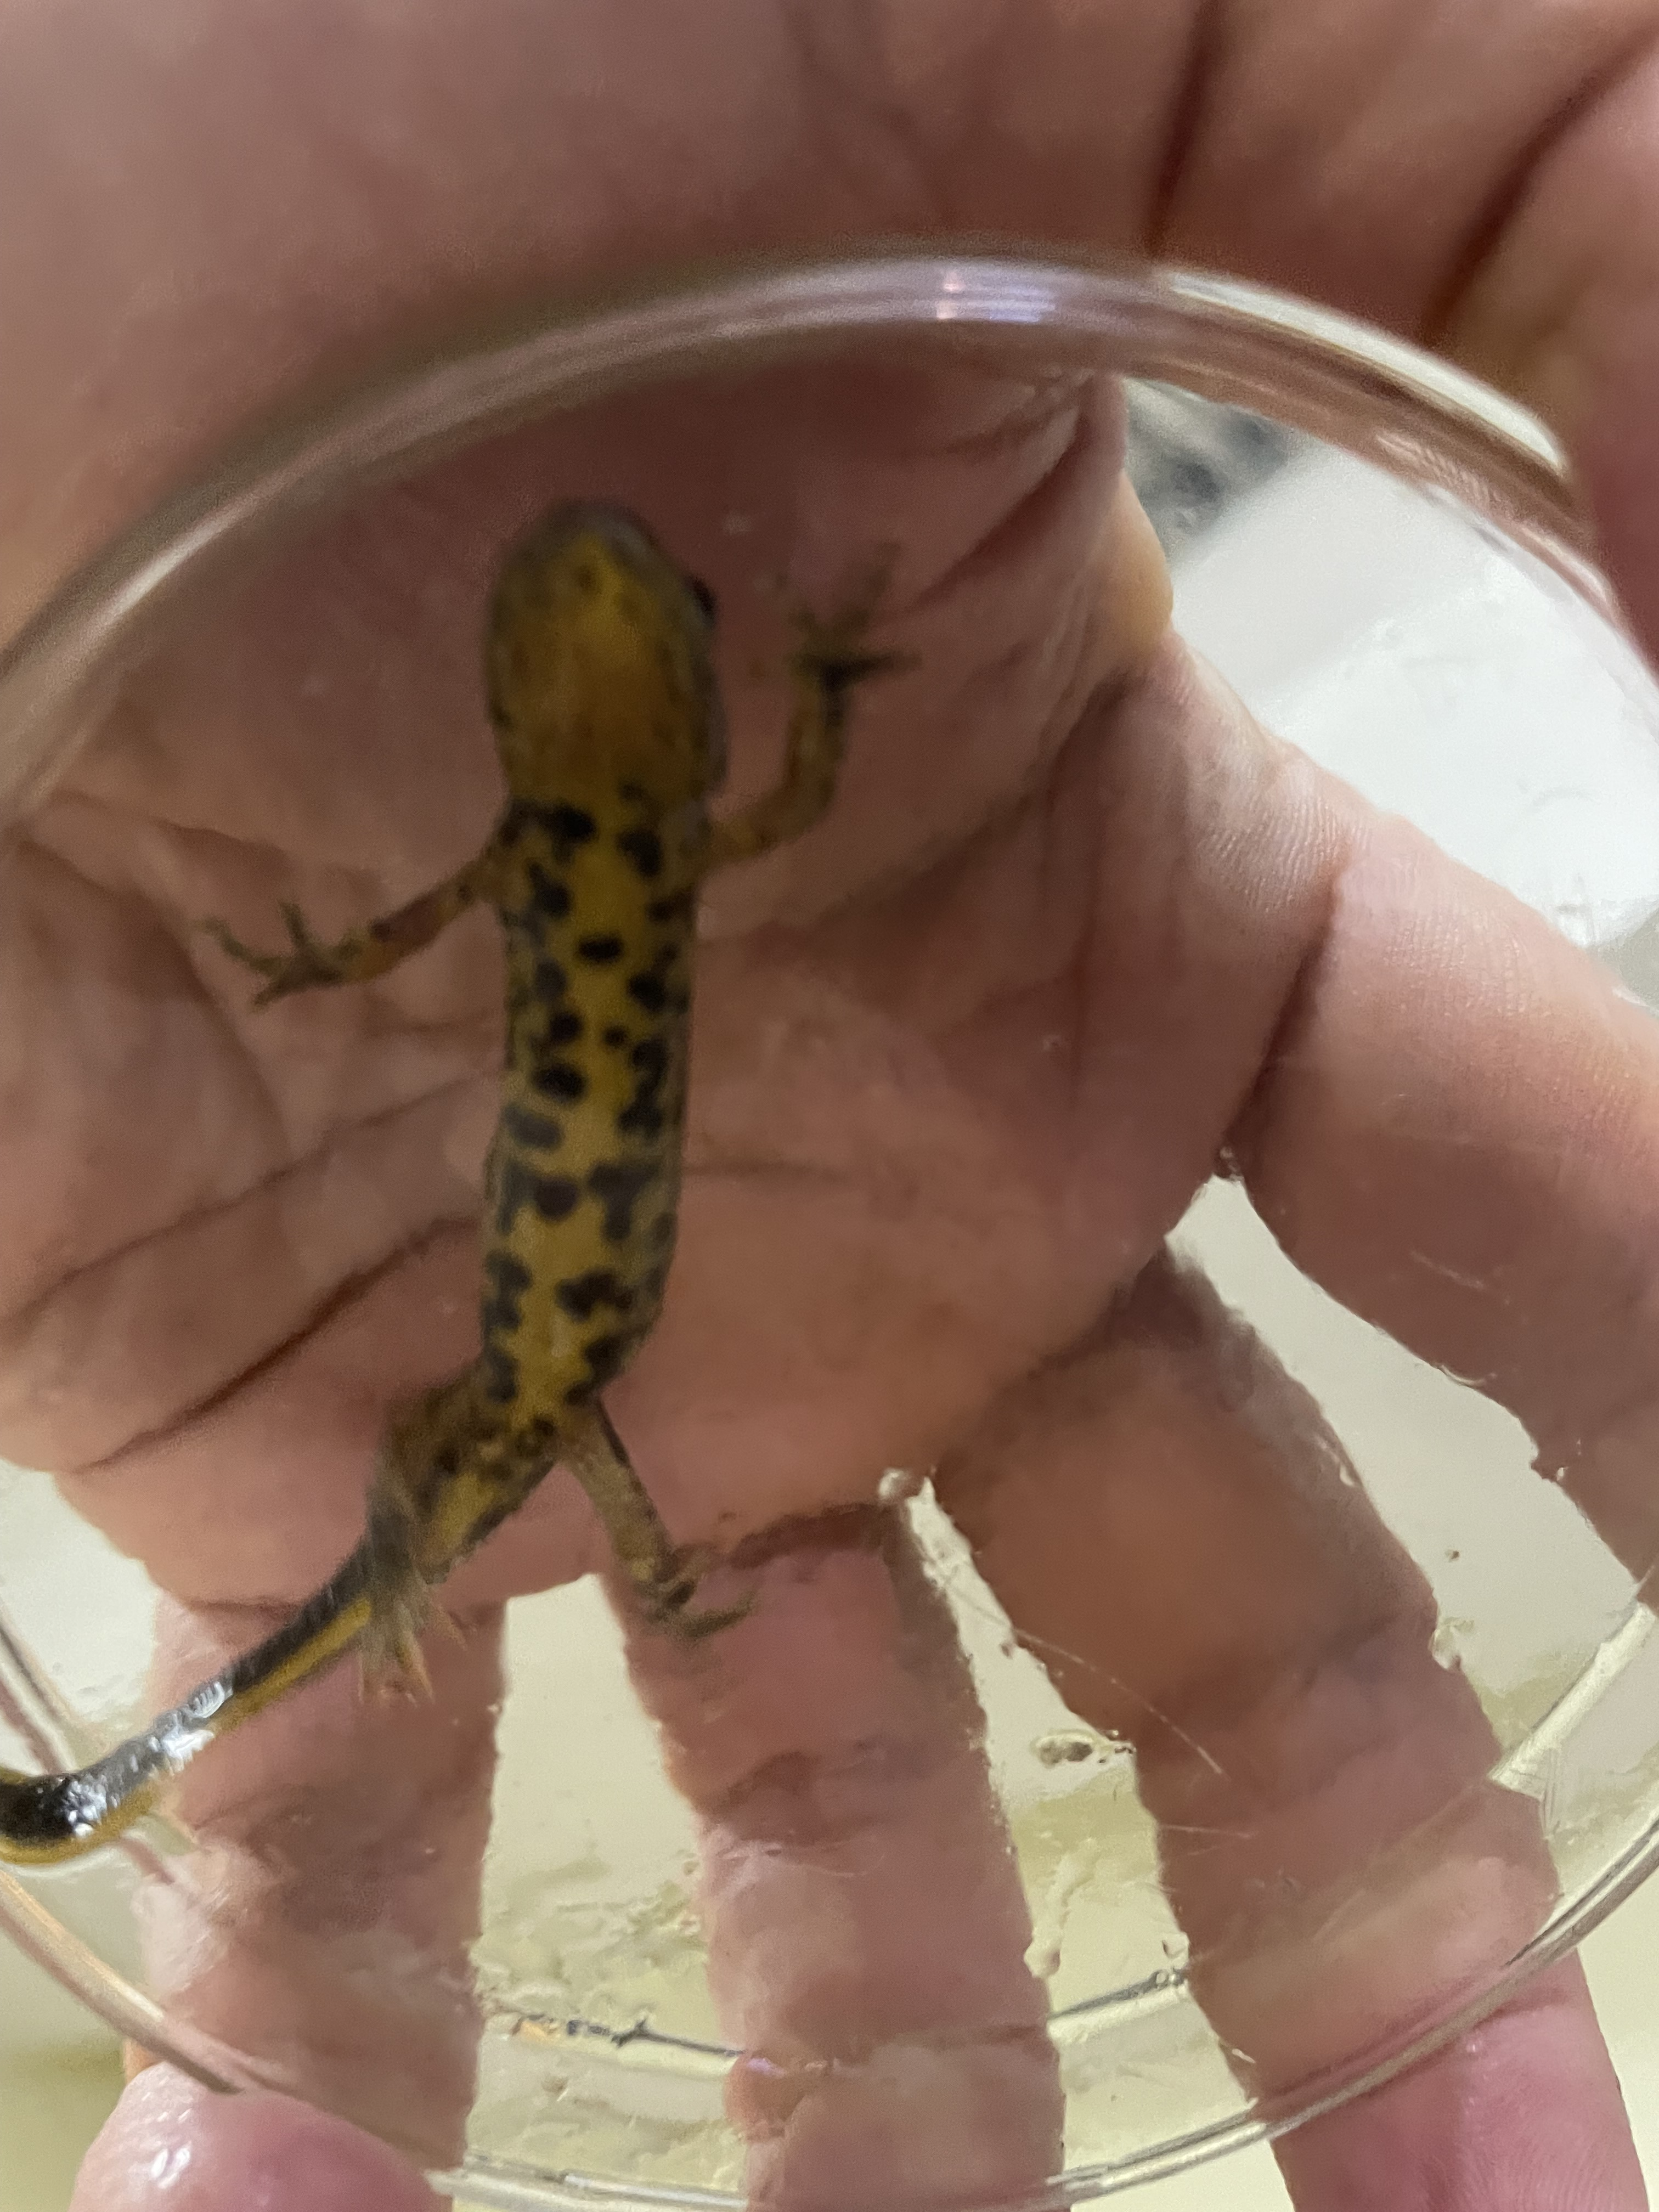Karelin_newt: (474, 880, 708, 1407)
